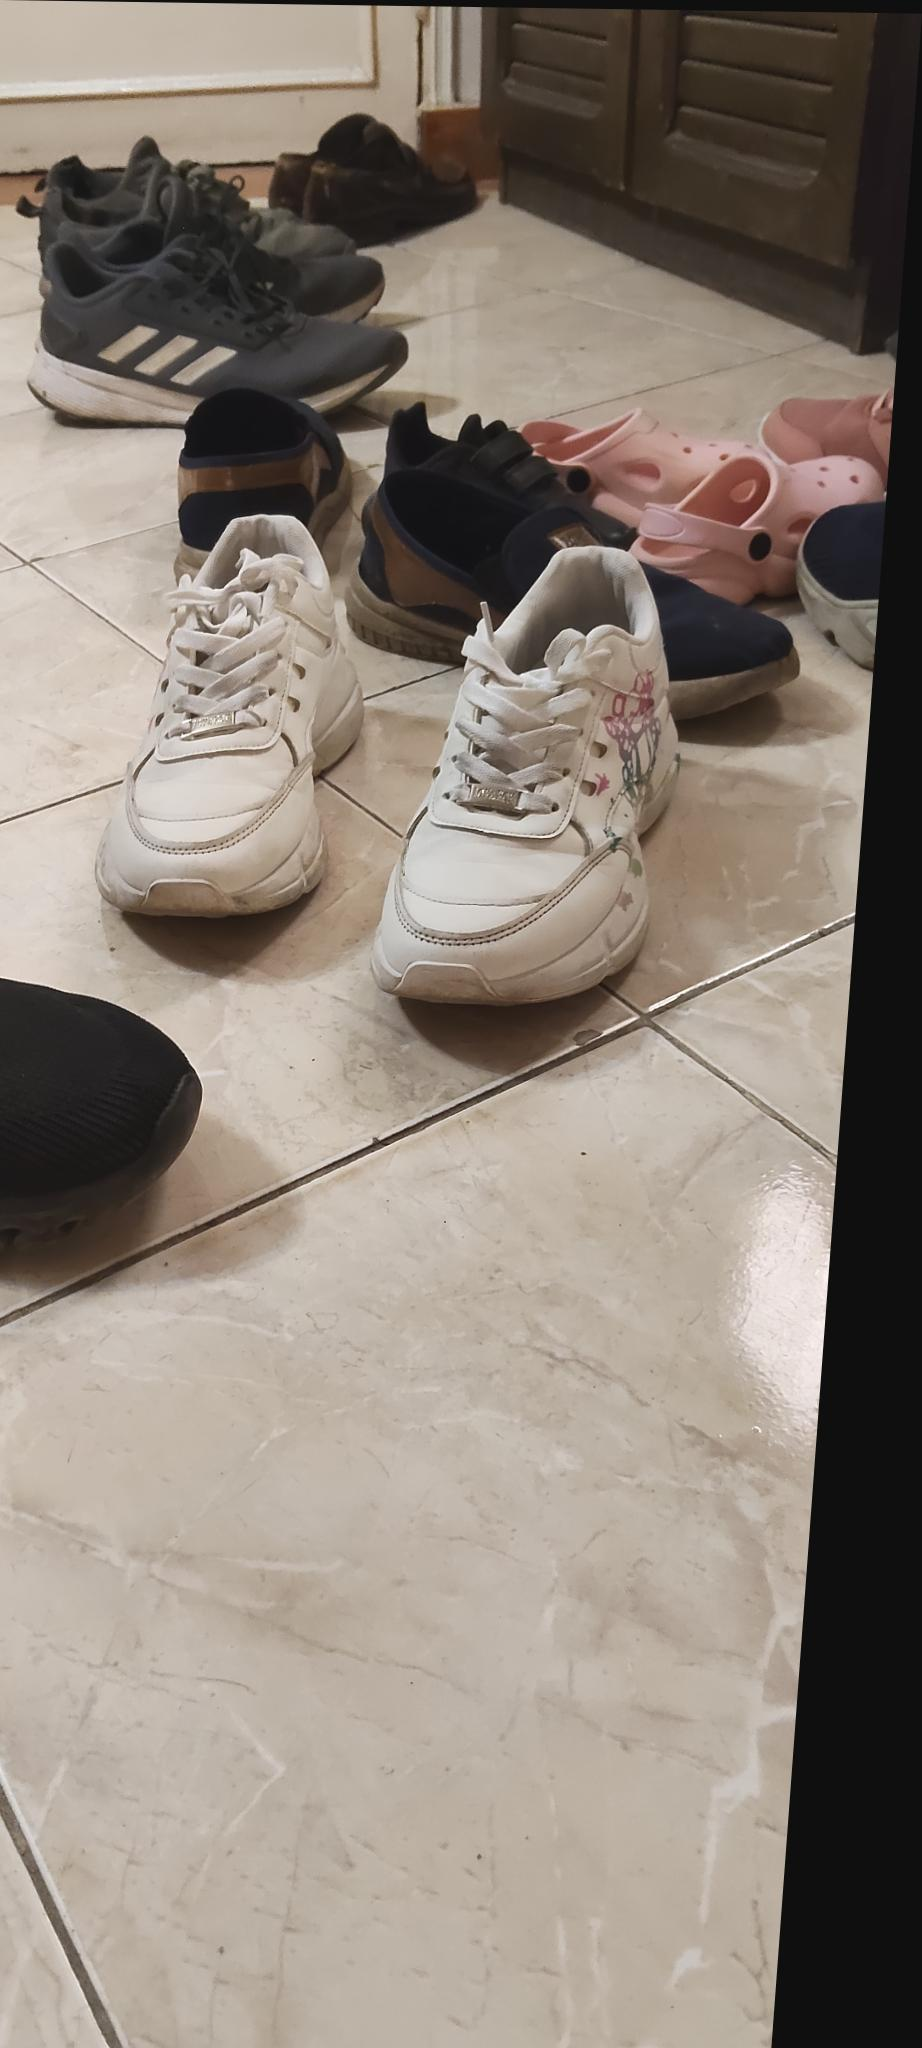Shoes: (338, 398, 823, 721), (371, 543, 697, 1004), (92, 512, 386, 927), (18, 249, 417, 432), (0, 963, 215, 1218), (34, 157, 359, 288), (627, 451, 885, 607), (43, 222, 389, 324), (508, 407, 762, 539), (168, 394, 356, 569), (296, 120, 489, 230), (788, 499, 885, 670), (752, 388, 894, 494)
